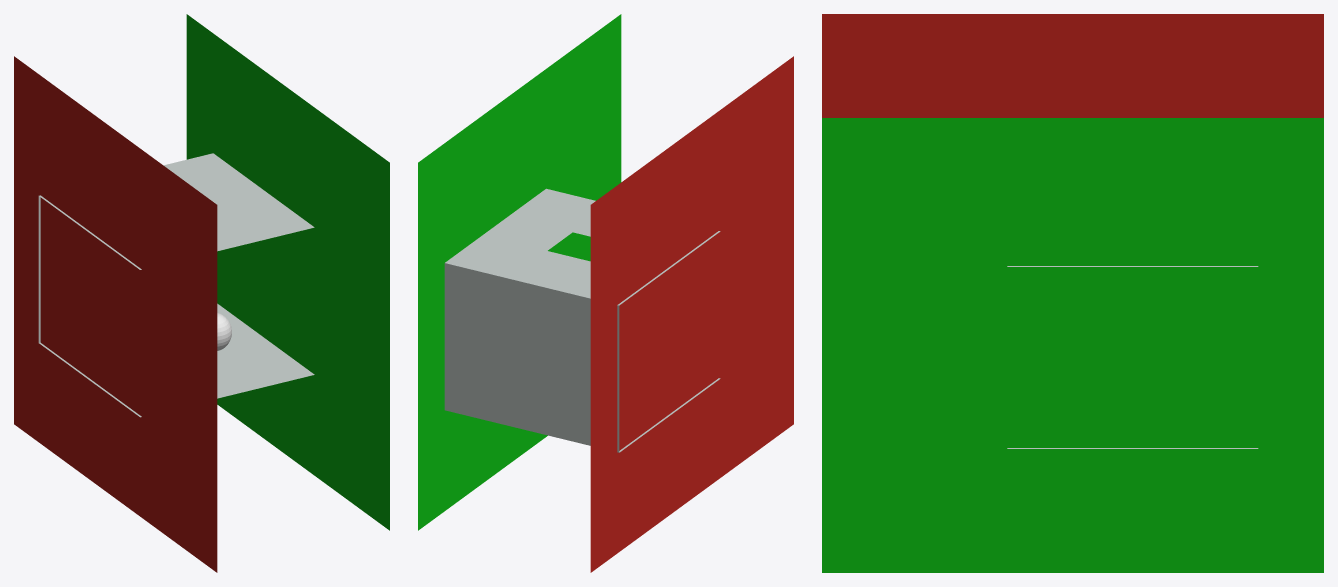
File: cornell.fbx
3 views of the same model, side by side, from view 1: azimuth 30°, elevation 25°; view 2: azimuth 150°, elevation 25°; view 3: azimuth 270°, elevation 25° (orthographic). The views are drawn at different scales.
Parts seen in each view (by area): view 1: Plane, Plane.001, Cube; view 2: Plane, Plane.001, Cube; view 3: Plane.001, Plane.
Part boxes in pixels (x1,y1,x2,y2): Plane: (14, 56, 217, 572); Plane.001: (186, 14, 389, 530); Cube: (38, 153, 314, 417); Plane: (590, 56, 793, 572); Plane.001: (418, 14, 621, 530); Cube: (444, 188, 720, 452); Plane.001: (822, 118, 1323, 572); Plane: (822, 14, 1323, 117).
Size of the model in its own units: 10 by 20 by 20.
